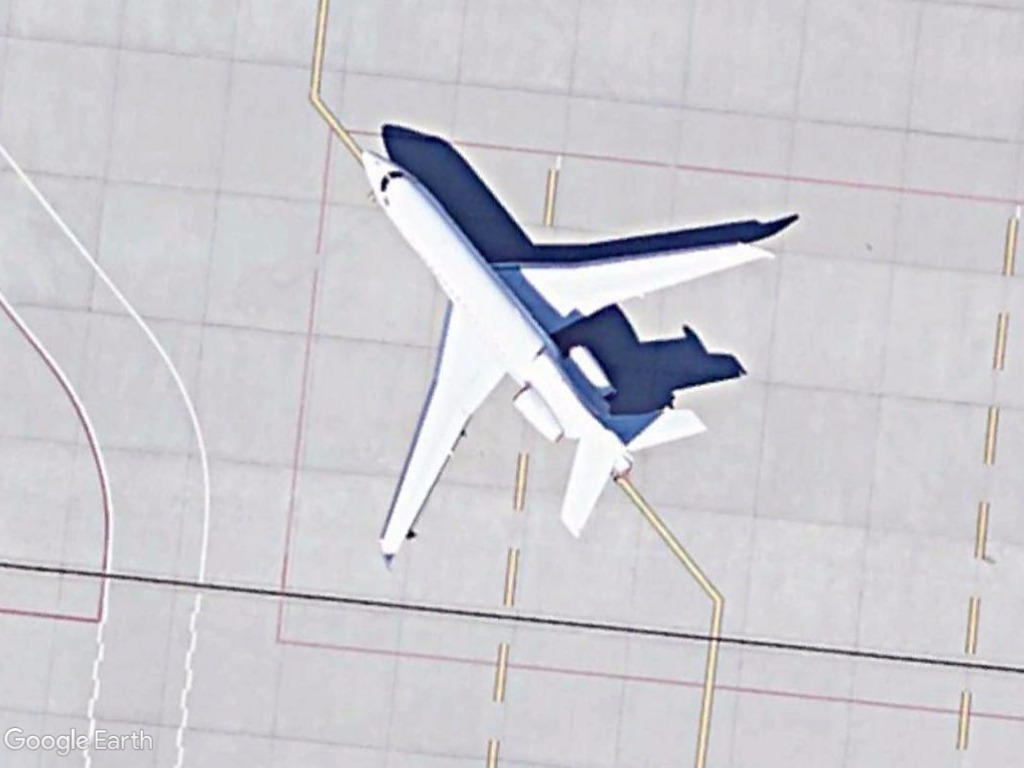chartered: (339, 142, 780, 577)
